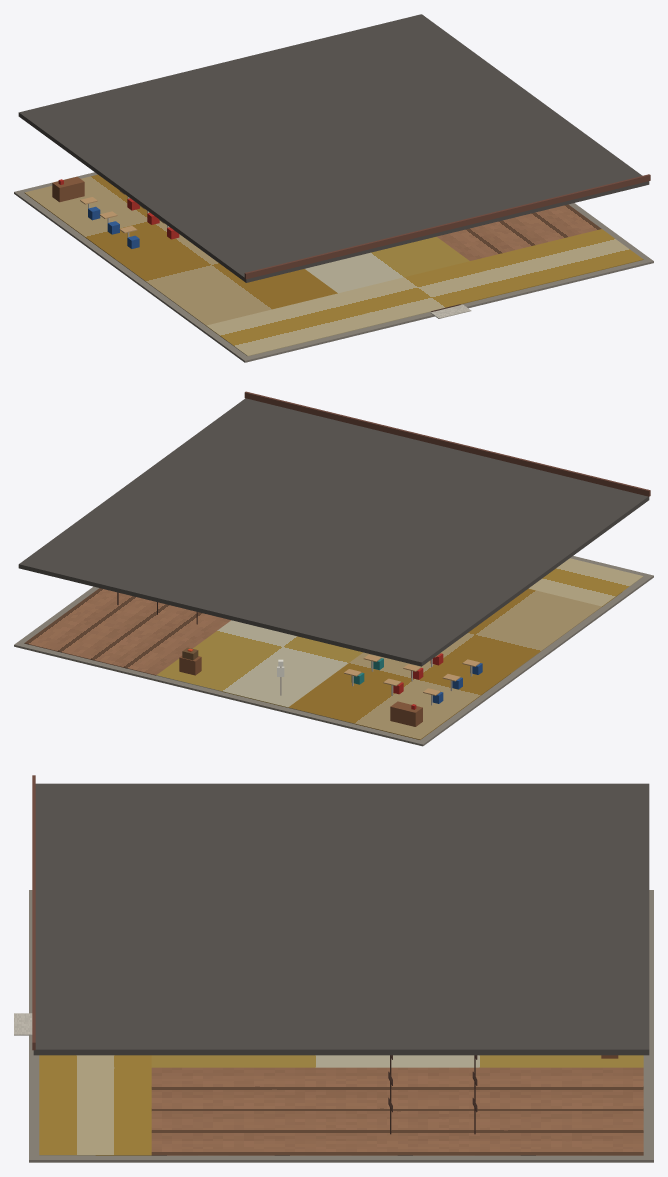
Rendered from structure.glb.
3 views of the same model, one above another, from view 1: azimuth 30°, elevation 25°; view 2: azimuth 150°, elevation 25°; view 3: azimuth 270°, elevation 25° (orthographic). The views are drawn at different scales.
Visible parts, largest first — view 1: Box12, Box6, Box2, Box8, Box1, Box9, Box10, Box7, Box13; view 2: Box12, Box6, Box8, Box10, Box9, Box1, Box2, Box7, Box13; view 3: Box12, Box10, Box6, Box2, Box1, Box9, Box7.
Part boxes in pixels (x1=…): Box12: x1=18, y1=14, x2=602, y2=249; Box6: x1=200, y1=147, x2=649, y2=282; Box2: x1=206, y1=229, x2=643, y2=356; Box8: x1=24, y1=174, x2=337, y2=325; Box1: x1=14, y1=172, x2=653, y2=362; Box9: x1=305, y1=236, x2=469, y2=293; Box10: x1=437, y1=204, x2=601, y2=260; Box7: x1=244, y1=174, x2=650, y2=279; Box13: x1=52, y1=176, x2=84, y2=202; Box12: x1=18, y1=430, x2=604, y2=666; Box6: x1=201, y1=398, x2=649, y2=533; Box8: x1=288, y1=588, x2=601, y2=739; Box10: x1=24, y1=588, x2=230, y2=675; Box9: x1=156, y1=620, x2=362, y2=707; Box1: x1=14, y1=556, x2=653, y2=746; Box2: x1=529, y1=558, x2=643, y2=606; Box7: x1=244, y1=391, x2=650, y2=496; Box13: x1=390, y1=701, x2=422, y2=726; Box12: x1=151, y1=783, x2=649, y2=1055; Box10: x1=151, y1=1067, x2=643, y2=1155; Box6: x1=33, y1=783, x2=157, y2=1055; Box2: x1=39, y1=1055, x2=151, y2=1155; Box1: x1=29, y1=890, x2=653, y2=1162; Box9: x1=151, y1=1055, x2=643, y2=1067; Box7: x1=32, y1=775, x2=35, y2=1050.
Bounding box in the file's own units: 22.74 × 4.65 × 22.77.
Materials: 19 (5 with a texture image).
